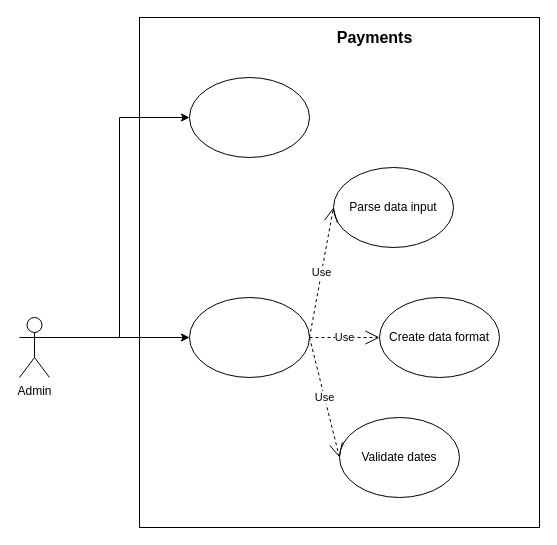
The diagram is 557 pixels wide and 545 high, and some of its shapes have lost their labels. The box of each missing label's shape, as (x1, y1, x2, y2) in pixels:
Calculate payment: (188, 296, 310, 378)
Edit test cases: (188, 76, 310, 158)
